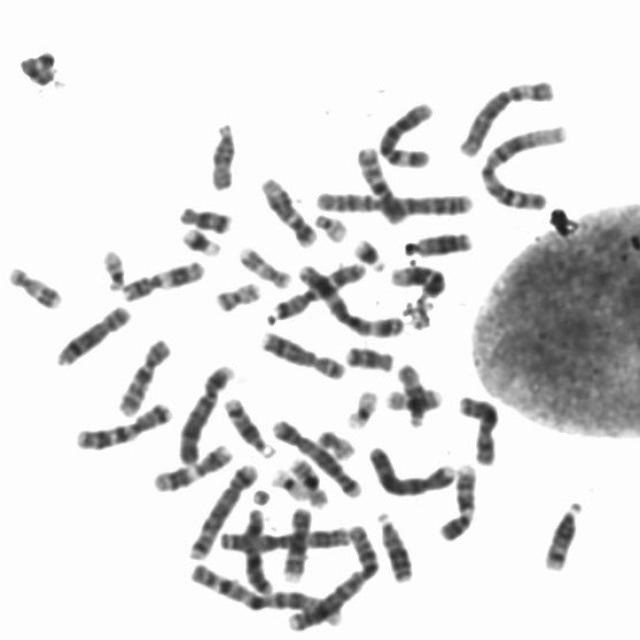A1: (185, 557, 344, 629), (475, 118, 571, 212)
A2: (283, 518, 383, 632), (310, 183, 477, 219)
A3: (292, 258, 406, 338), (214, 522, 354, 554)
B4: (173, 358, 236, 467), (364, 439, 460, 498)
B5: (267, 413, 365, 499), (185, 457, 260, 561)
C10: (112, 332, 176, 419), (352, 140, 410, 226)
C11: (148, 438, 235, 494), (117, 255, 208, 302)
C12: (254, 171, 318, 249), (384, 260, 448, 299)
C6: (454, 72, 558, 158), (374, 95, 437, 169)
C7: (267, 256, 368, 322), (70, 396, 175, 450)
C8: (51, 299, 134, 368), (255, 324, 348, 382)
C9: (434, 458, 480, 543), (278, 502, 313, 582)
D13: (372, 505, 416, 584), (400, 226, 475, 258)
D14: (219, 391, 276, 458), (539, 494, 586, 573)
D15: (205, 116, 239, 192), (393, 358, 428, 428)
E16: (286, 452, 332, 508), (381, 382, 445, 414)
E17: (4, 260, 66, 311), (234, 240, 294, 289)
E18: (174, 200, 234, 234), (340, 339, 396, 374)
F19: (340, 384, 380, 431), (266, 463, 310, 502)
F20: (210, 275, 265, 313), (312, 424, 358, 461)
G21: (177, 222, 224, 258), (348, 232, 388, 273)
G22: (96, 244, 128, 292), (310, 208, 350, 244)
X: (454, 389, 504, 468), (236, 502, 274, 596)
